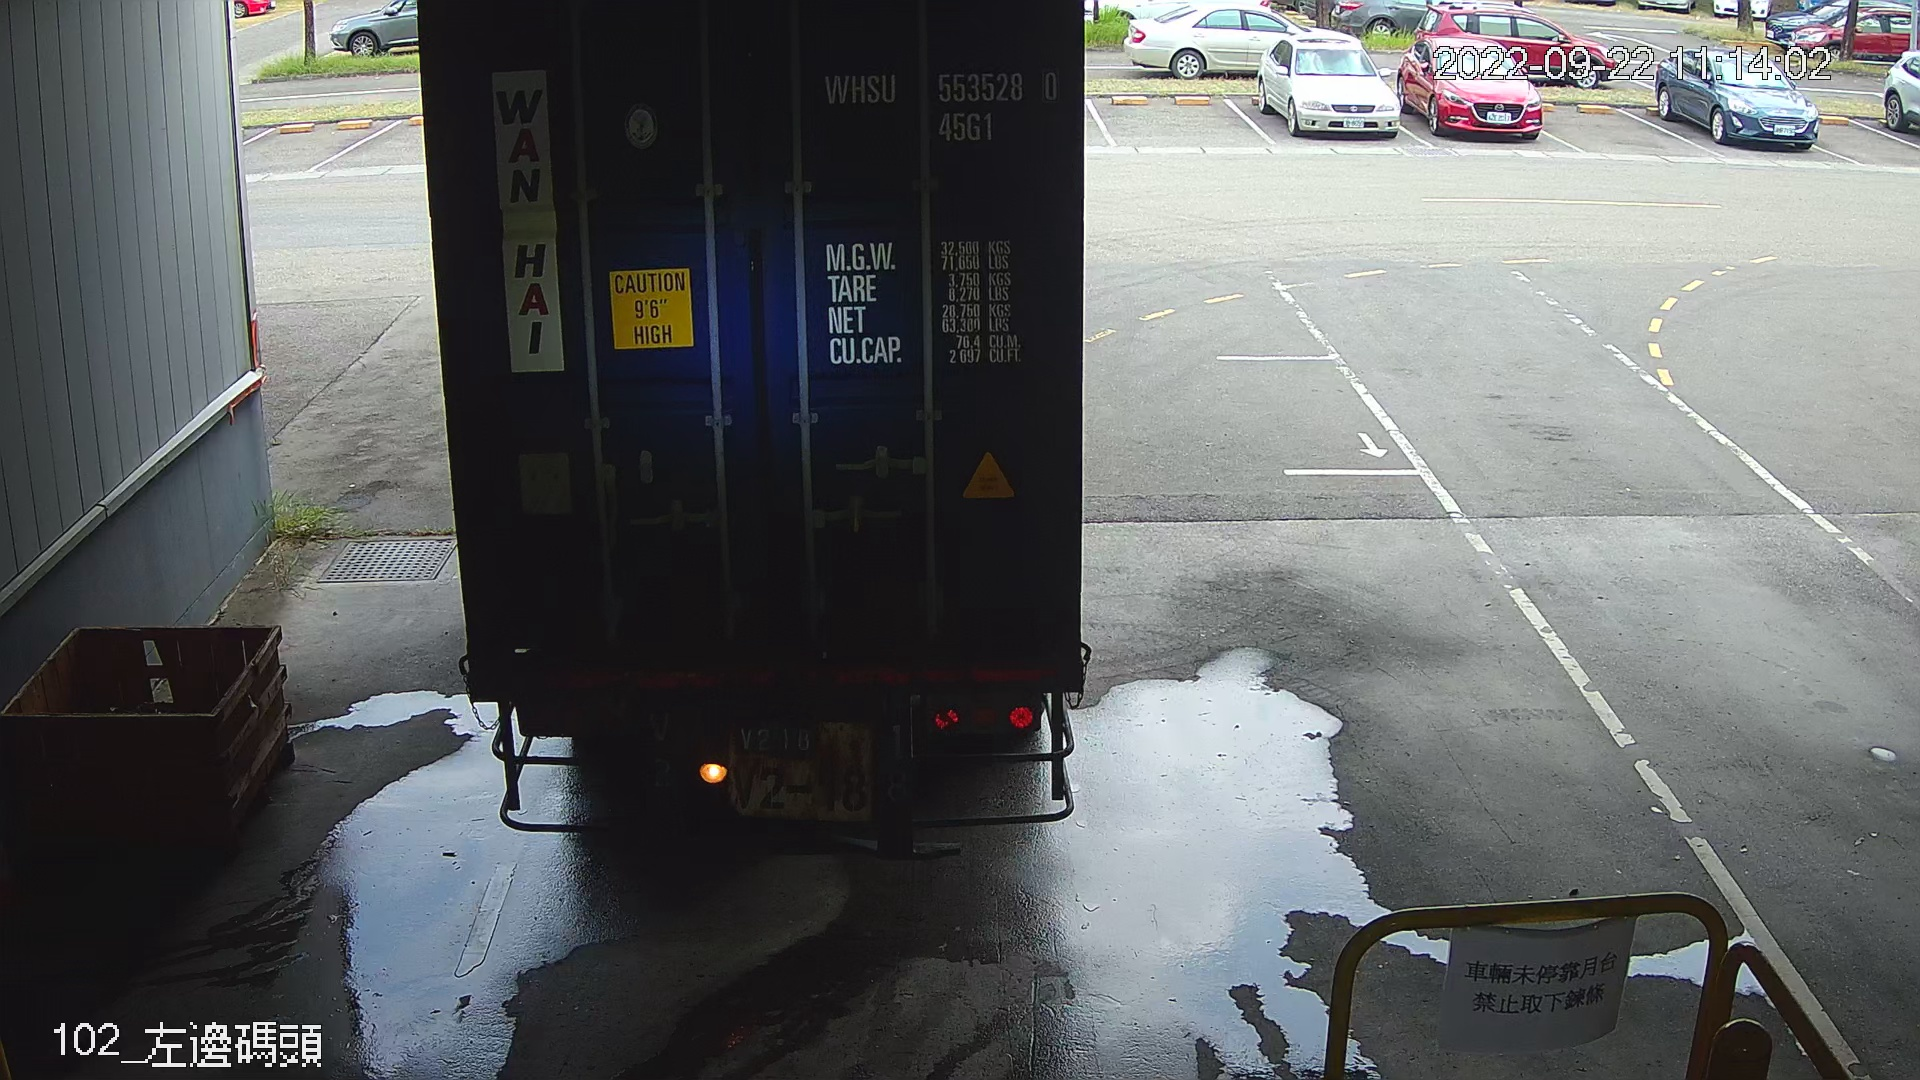container: (810, 61, 1067, 152)
